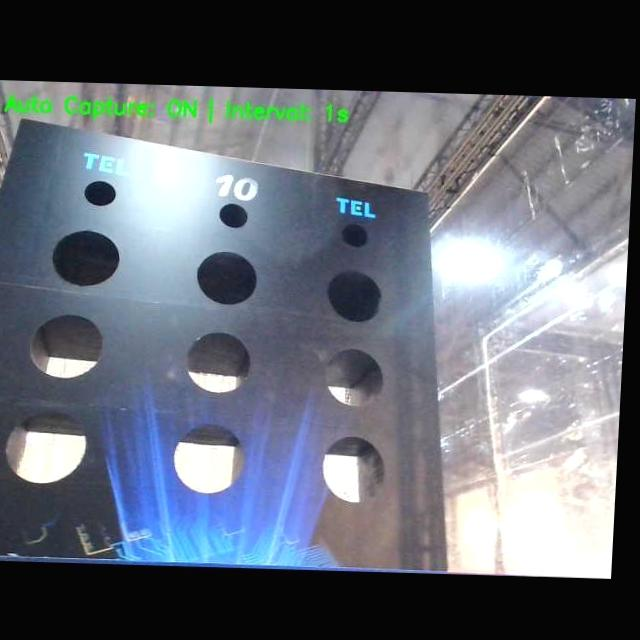hole: (4, 408, 88, 485), (172, 423, 247, 493), (29, 313, 104, 379), (321, 435, 387, 503), (185, 330, 253, 395), (52, 229, 121, 287), (323, 346, 385, 409), (196, 250, 257, 305), (325, 268, 384, 324), (84, 181, 117, 207), (219, 202, 249, 229), (342, 223, 369, 248)
